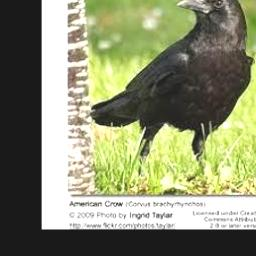Crow: (88, 0, 255, 195)
